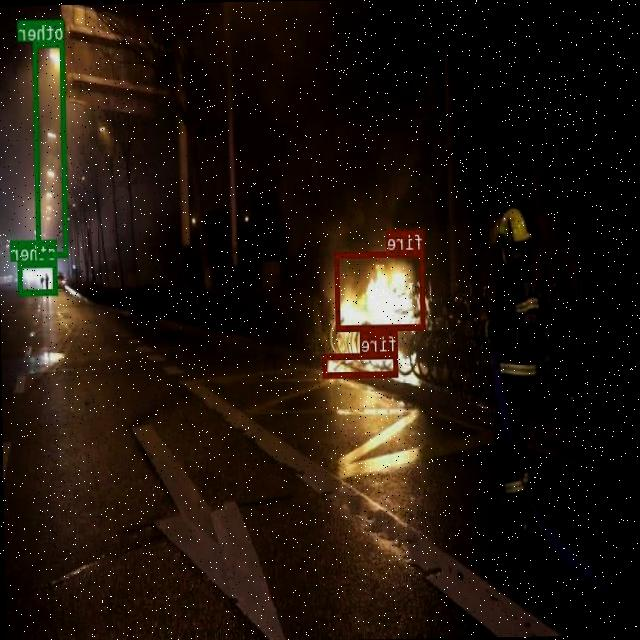fire: (335, 249, 426, 330), (324, 352, 398, 376)
